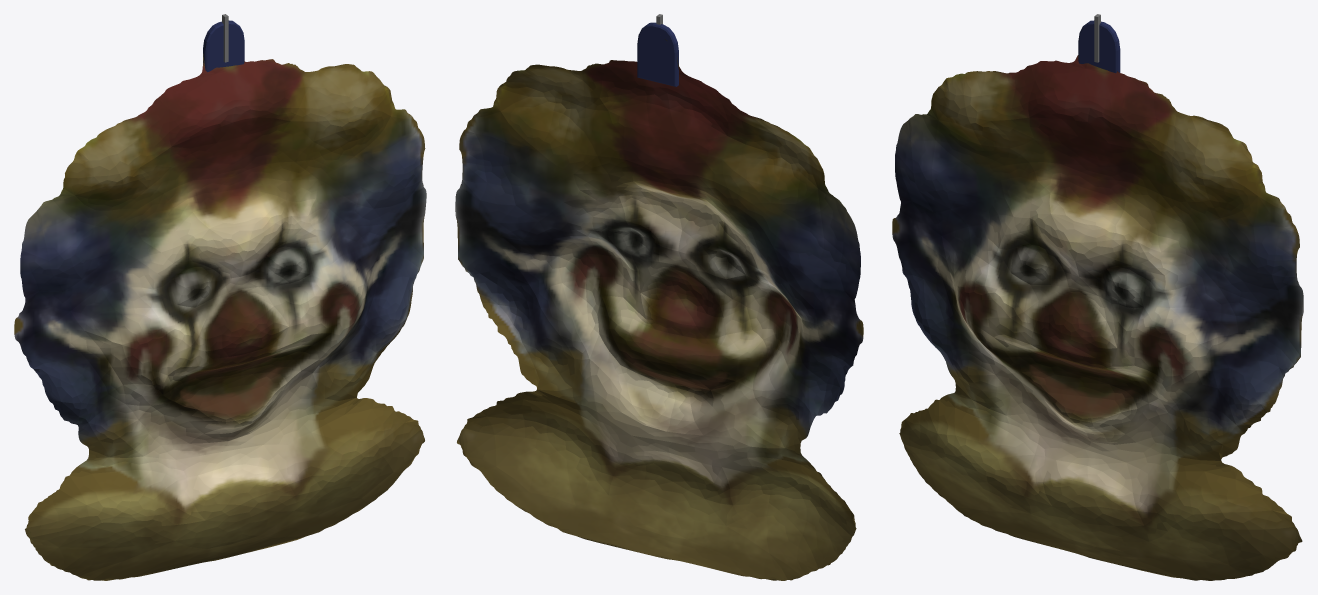
The model's file is Lvl1_clown.fbx.
The picture shows the model from 3 angles, left to right: view 1: azimuth 30°, elevation 25°; view 2: azimuth 150°, elevation 25°; view 3: azimuth 330°, elevation 25°; orthographic projection.
Visible parts, largest first — view 1: Würfel.001; view 2: Würfel.001; view 3: Würfel.001.
Boxes of the visible parts, x1=… form: Würfel.001: x1=14, y1=14, x2=426, y2=580; Würfel.001: x1=455, y1=14, x2=863, y2=580; Würfel.001: x1=892, y1=14, x2=1303, y2=580.
Bounding box in the file's own units: 6.06 × 7.66 × 0.7676.
3 materials, 1 textured.
